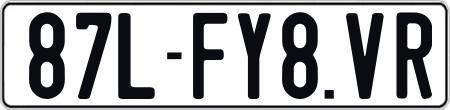7: (75, 12, 110, 102)
8: (279, 12, 318, 102), (27, 10, 64, 99)
F: (193, 13, 230, 105)
L: (115, 13, 155, 105)
R: (396, 11, 431, 103)
V: (344, 13, 384, 99)
Y: (236, 11, 270, 99)
